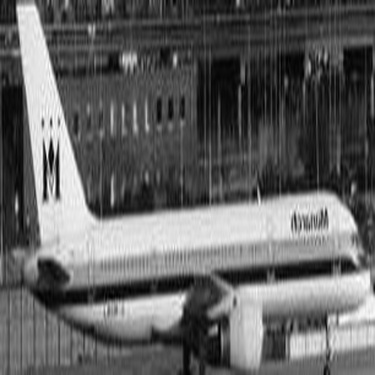airplane: (6, 7, 368, 371)
